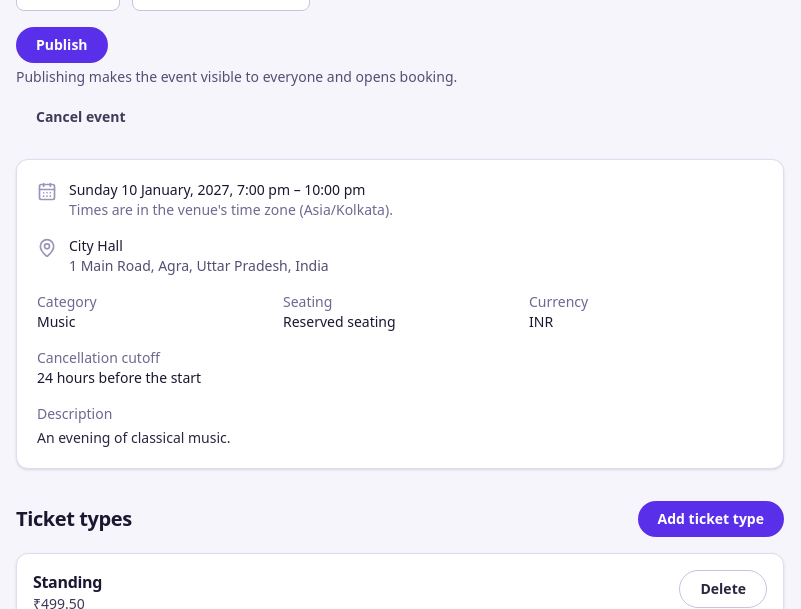
Test: OrganizerEventPage › ticket types › adds a reserved-seating ticket type by choosing one of the venue seat sections
Expected: the heading "Standing" is shown, [33,571,102,593]
Click the button "Add ticket type": (711, 519) [638,501,784,537]
(page scrolled)
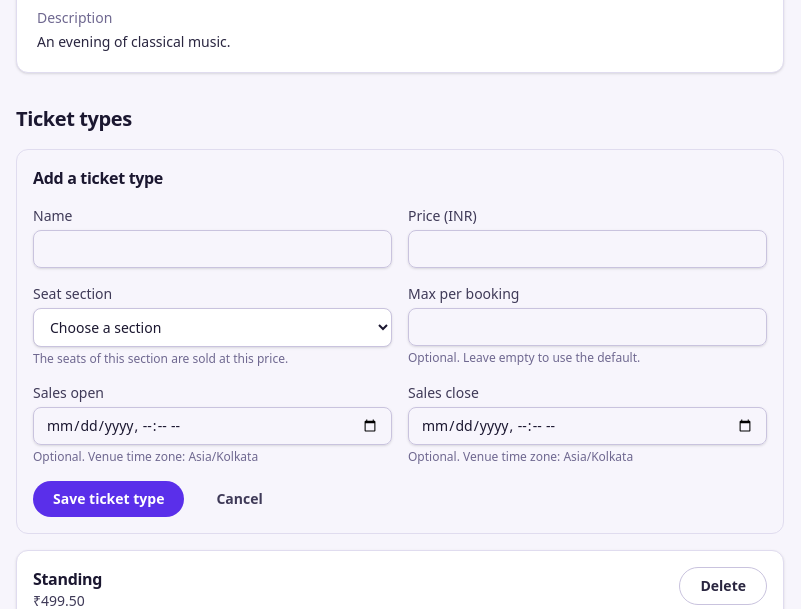
In the field labelled "Name": (212, 249) [33,230,392,268], type "VIP"
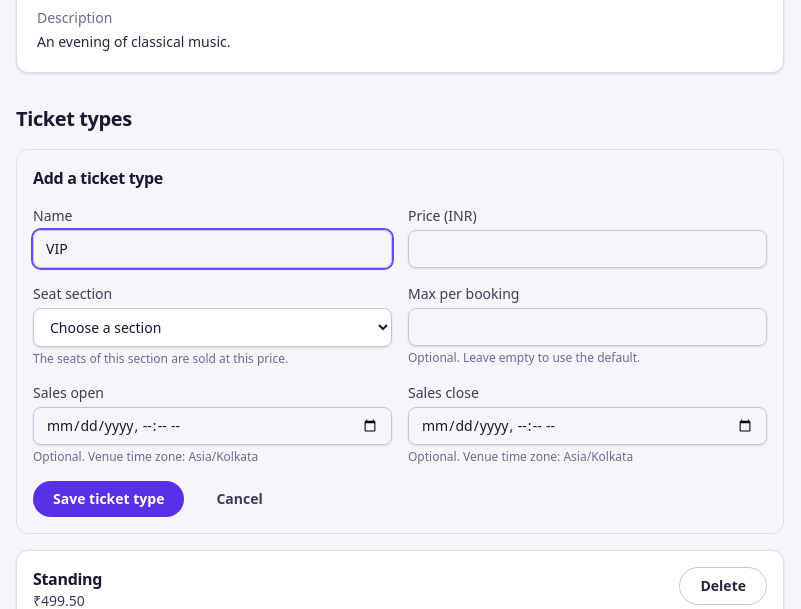
In the number field labelled "Price (INR)": (588, 249) [408,230,767,268], type "2500"
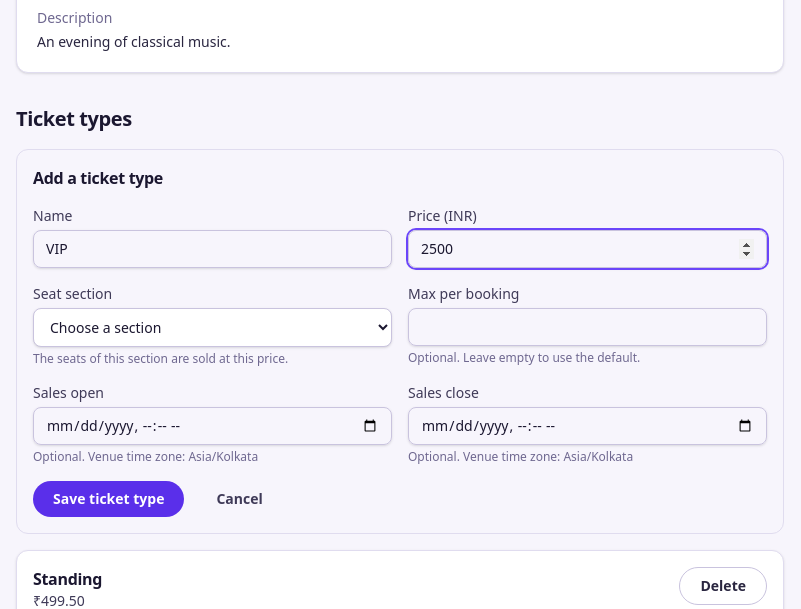
Select "VIP (30 seats)" in the dropdown labelled "Seat section": (212, 328) [33,308,392,347]
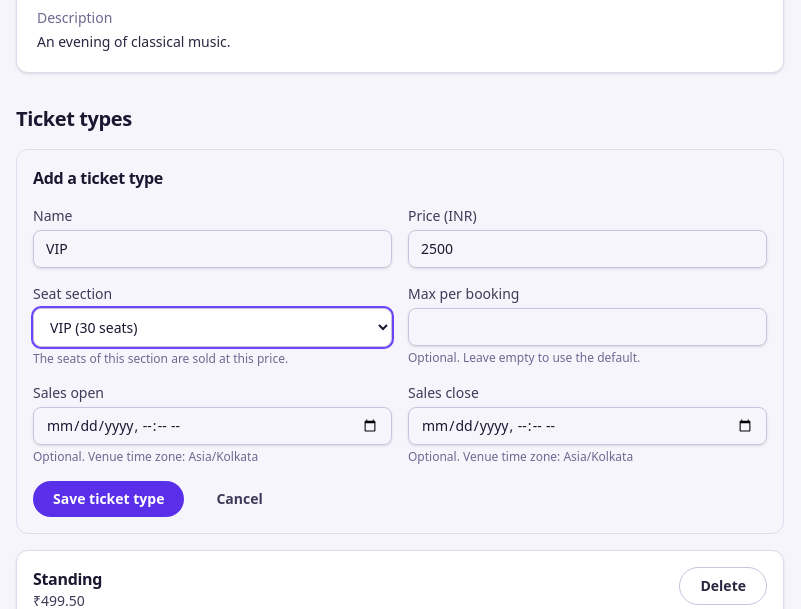
Click the button "Save ticket type": (109, 499) [33,481,184,517]
(page scrolled)
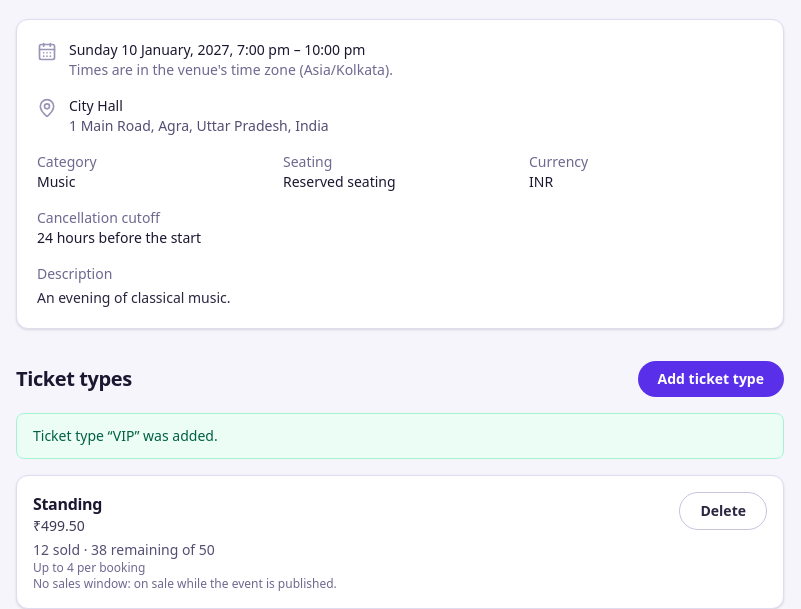
Now the text "Ticket type “VIP” was added." is shown, box [16,413,784,459]
